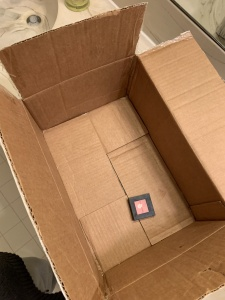innerbox: (34, 70, 186, 275)
outerbox: (1, 10, 224, 300)
product: (127, 194, 154, 220)
